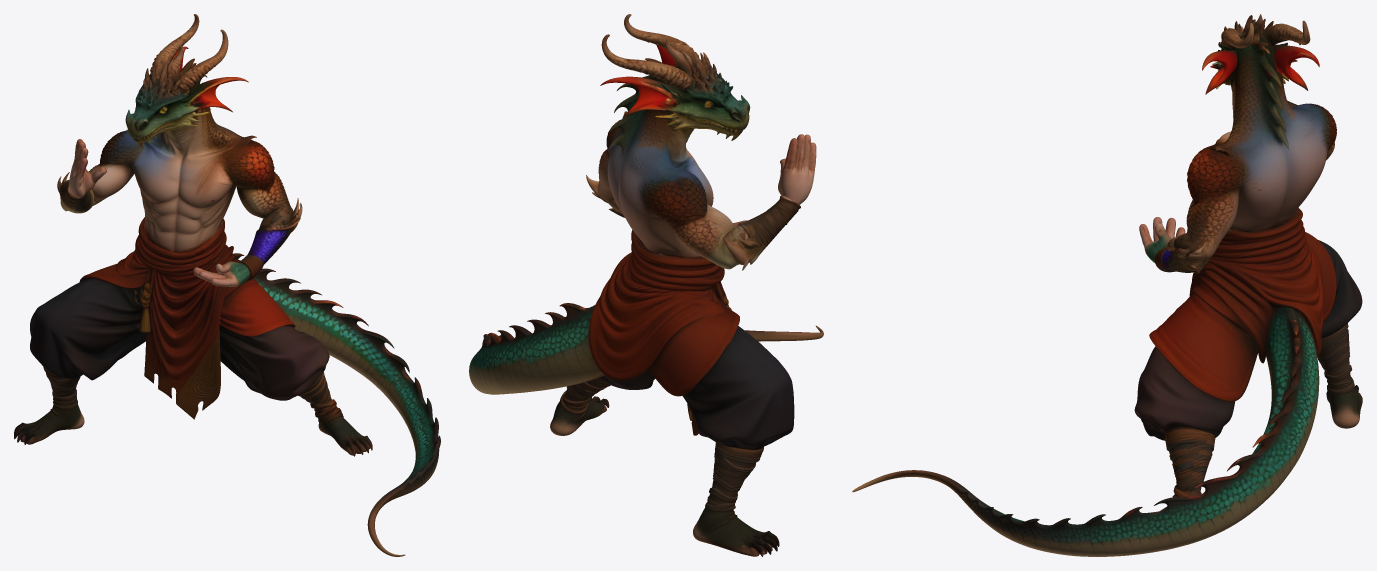
The model's file is dragonborn_monk_full_male_01.glb.
3 renders of one model, left to right at view 1: azimuth 30°, elevation 25°; view 2: azimuth 150°, elevation 25°; view 3: azimuth 270°, elevation 25°, orthographic. The views are drawn at different scales.
Visible parts, largest first — view 1: material; view 2: material; view 3: material.
Boxes of the visible parts, x1,y1,x2,y2 form: material: [14, 14, 440, 556]; material: [469, 14, 823, 556]; material: [852, 14, 1362, 556].
Size of the model in its own units: 0.6293 by 0.753 by 0.7478.
Materials: 1 (1 with a texture image).
